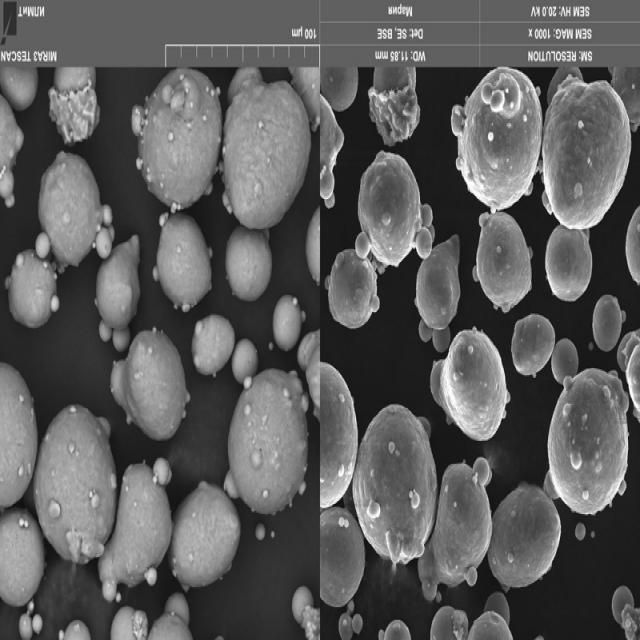cells: (29, 399, 121, 570), (217, 69, 313, 231), (350, 399, 438, 574), (540, 69, 633, 233), (448, 62, 544, 217), (130, 66, 220, 225), (543, 357, 631, 519), (223, 362, 312, 522), (94, 456, 174, 607), (106, 320, 193, 452), (417, 452, 495, 597), (32, 145, 114, 276), (428, 324, 512, 448), (354, 147, 429, 272), (483, 479, 562, 595), (167, 474, 242, 593), (470, 204, 535, 313), (151, 204, 212, 317), (90, 226, 142, 351), (0, 357, 40, 514), (320, 357, 358, 511), (4, 236, 62, 336), (323, 240, 377, 335), (318, 506, 367, 608), (0, 506, 46, 612), (222, 222, 279, 306), (541, 220, 594, 306), (415, 231, 461, 328), (52, 65, 100, 149), (510, 305, 558, 386), (191, 304, 237, 386), (592, 292, 622, 354), (271, 293, 301, 351), (428, 603, 468, 640), (231, 338, 260, 387), (551, 338, 579, 387), (610, 580, 636, 630)
